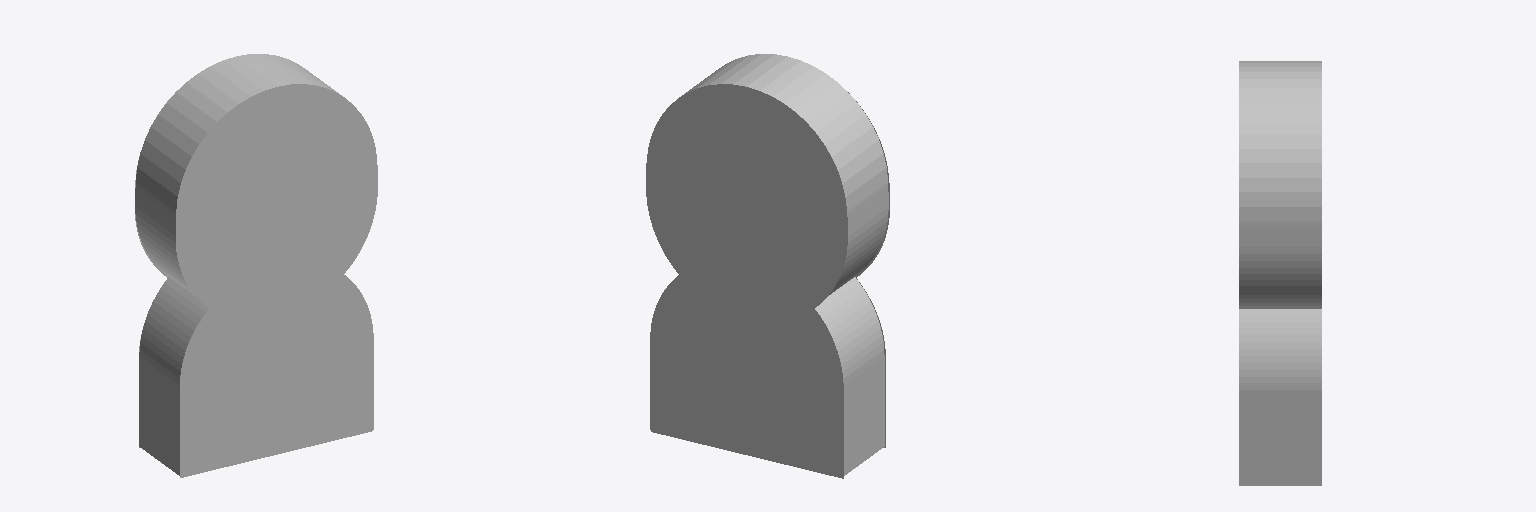
File: blender_body-front-back.obj
3 renders of one model, left to right at view 1: azimuth 30°, elevation 25°; view 2: azimuth 150°, elevation 25°; view 3: azimuth 270°, elevation 25°, orthographic.
Visible parts, largest first — view 1: Curve.012, body_CUCurve, Curve.008, Curve.002, Curve.006, Curve.007, Curve.005, Curve, Curve.016, Curve.015; view 2: Curve.029, body_CUCurve, Curve.025, Curve.019, Curve.023, Curve.024, Curve.022, Curve.017, Curve.033, Curve.032; view 3: body_CUCurve.
Part boxes in pixels (x1,y1,x2,y2): Curve.012: (176,85,376,320); body_CUCurve: (135,54,377,475); Curve.008: (187,132,364,258); Curve.002: (180,381,372,477); Curve.006: (285,276,372,420); Curve.007: (180,309,266,466); Curve.005: (250,352,300,400); Curve: (238,316,313,378); Curve.016: (213,439,267,469); Curve.015: (284,422,338,452); Curve.029: (647,86,847,321); body_CUCurve: (646,54,888,475); Curve.025: (658,134,835,258); Curve.019: (651,381,843,478); Curve.023: (756,309,843,467); Curve.024: (651,277,737,420); Curve.022: (721,352,771,400); Curve.017: (710,317,784,378); Curve.033: (684,422,738,452); Curve.032: (755,439,809,470); body_CUCurve: (1239,61,1321,485).
Size of the model in its own units: 0.4536 by 0.7888 by 0.1613.